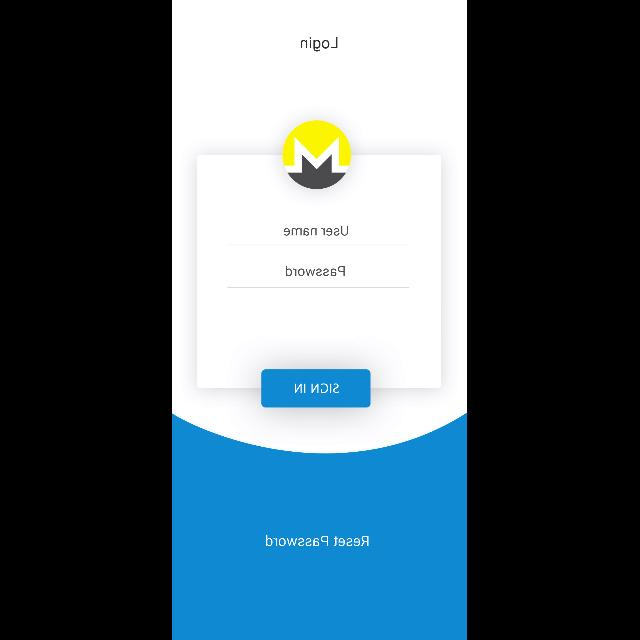image: (282, 120, 352, 190)
input: (228, 266, 410, 288), (228, 226, 410, 246)
text: (267, 536, 369, 546), (284, 226, 350, 236), (286, 266, 346, 276), (302, 36, 338, 52)
textbutton: (262, 370, 372, 408)
